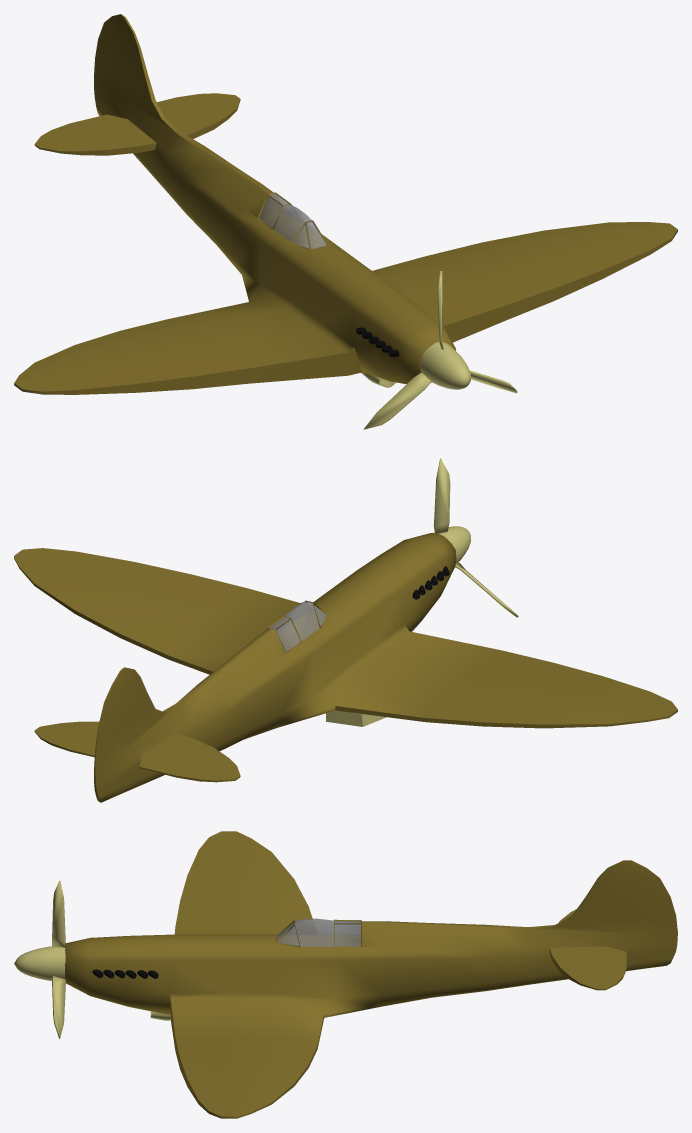
3 renders of one model, top to bottom at view 1: azimuth 30°, elevation 25°; view 2: azimuth 150°, elevation 25°; view 3: azimuth 270°, elevation 25°, orthographic. The views are drawn at different scales.
Parts seen in each view (by area): view 1: Plane, Propeller_Plane.002, window_Circle.001, head_Plane.001; view 2: Plane, window_Circle.001, Propeller_Plane.002, inlet2_Plane.006, head_Plane.001; view 3: Plane, window_Circle.001, Propeller_Plane.002, head_Plane.001, smoke2_Cylinder.002.
Boxes of the visible parts, x1,y1,x2,y2 form: Plane: (14,14,677,394); Propeller_Plane.002: (363,271,517,429); window_Circle.001: (259,193,326,248); head_Plane.001: (420,342,470,389); Plane: (14,533,677,802); window_Circle.001: (268,601,327,652); Propeller_Plane.002: (433,458,518,617); inlet2_Plane.006: (326,710,386,726); head_Plane.001: (433,526,470,563); Plane: (65,831,677,1118); window_Circle.001: (277,918,360,946); Propeller_Plane.002: (52,880,65,1038); head_Plane.001: (14,946,65,980); smoke2_Cylinder.002: (92,969,158,978).
Size of the model in its own units: 9.79 by 2.57 by 9.62.
